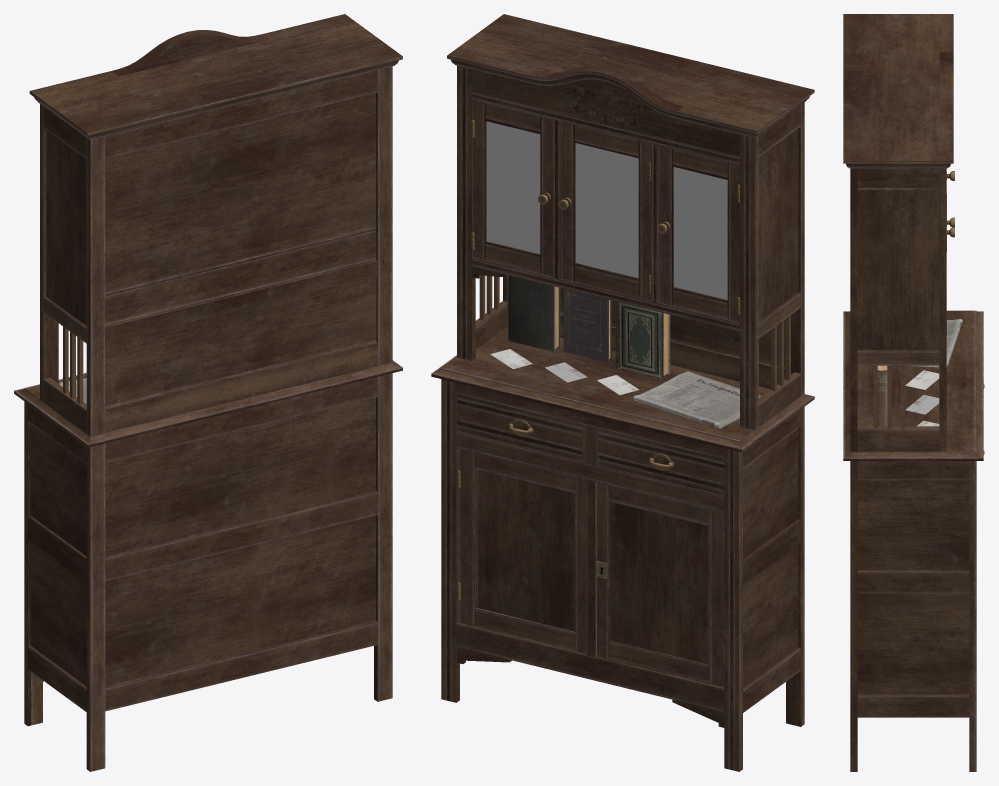
Rendered from old_bookshelf_low_poly.glb.
3 views of the same model, side by side, from view 1: azimuth 30°, elevation 25°; view 2: azimuth 150°, elevation 25°; view 3: azimuth 270°, elevation 25° (orthographic). The views are drawn at different scales.
Parts seen in each view (by area): view 1: Bookshelf_main; view 2: Bookshelf_main, Bookshelf_door2, Bookshelf_door1, Bookshelf_updoor2, Bookshelf_updoor1, Bookshelf_updoor3, Bookshelf_slide2, Bookshelf_slide1, book2, newspaper, book1, book3; view 3: Bookshelf_main, book1, newspaper, letter2, letter3.
Part boxes in pixels (x1,y1,x2,y2): Bookshelf_main: (14,14,402,771); Bookshelf_main: (431,14,814,771); Bookshelf_door2: (586,479,724,687); Bookshelf_door1: (457,448,586,653); Bookshelf_updoor2: (558,122,650,300); Bookshelf_updoor1: (471,100,552,276); Bookshelf_updoor3: (657,146,739,322); Bookshelf_slide2: (598,428,724,495); Bookshelf_slide1: (457,394,582,461); book2: (615,301,670,379); newspaper: (633,371,761,428); book1: (507,275,560,351); book3: (563,289,611,362); Bookshelf_main: (843,14,983,771); book1: (877,365,887,426); newspaper: (912,318,962,367); letter2: (905,395,939,414); letter3: (905,370,939,389).
Bounding box in the file's own units: 1.01 × 2.02 × 0.4094.
Materials: 2 (2 with a texture image).
